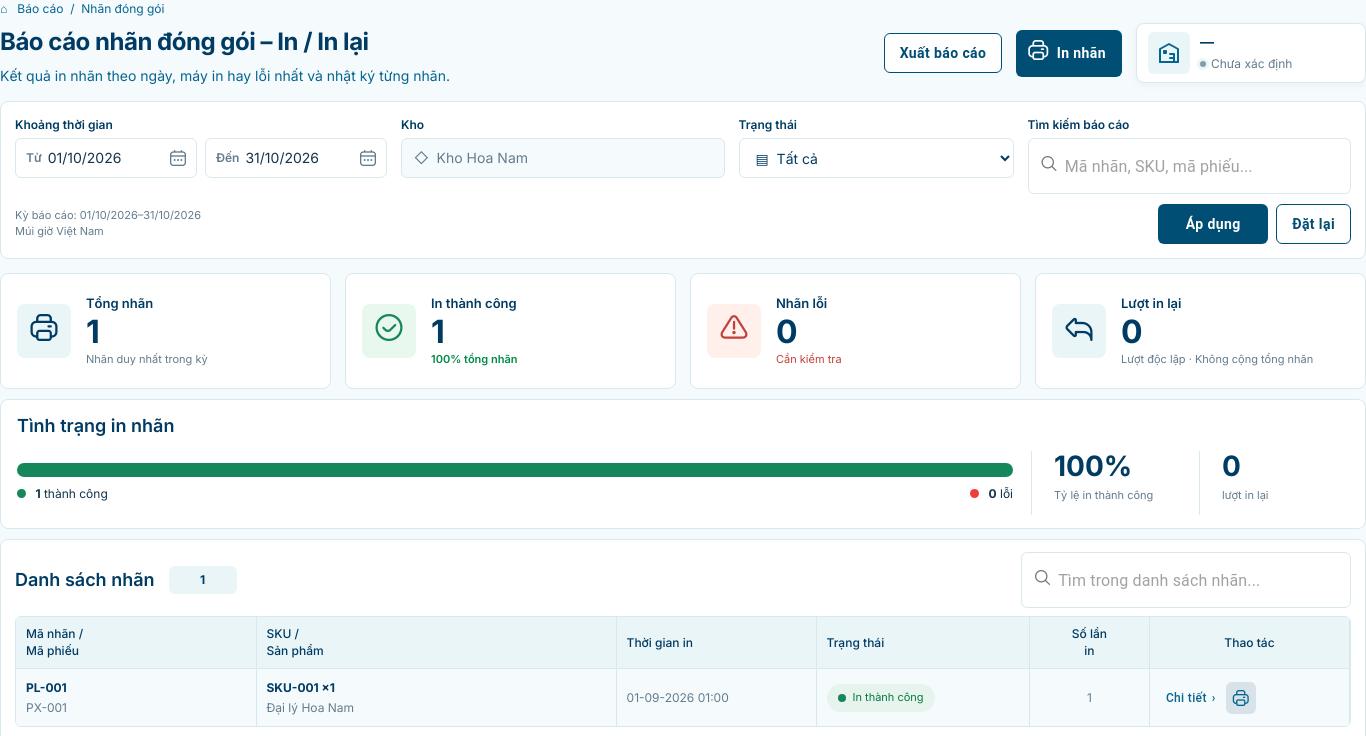
Test: packing-label reprint reason dialog › requires a reason and submits its trimmed value with the fresh snapshot version
Click the button named "In lại" at (1241, 698), box top-left (1226, 682), bottom-right (1256, 714)
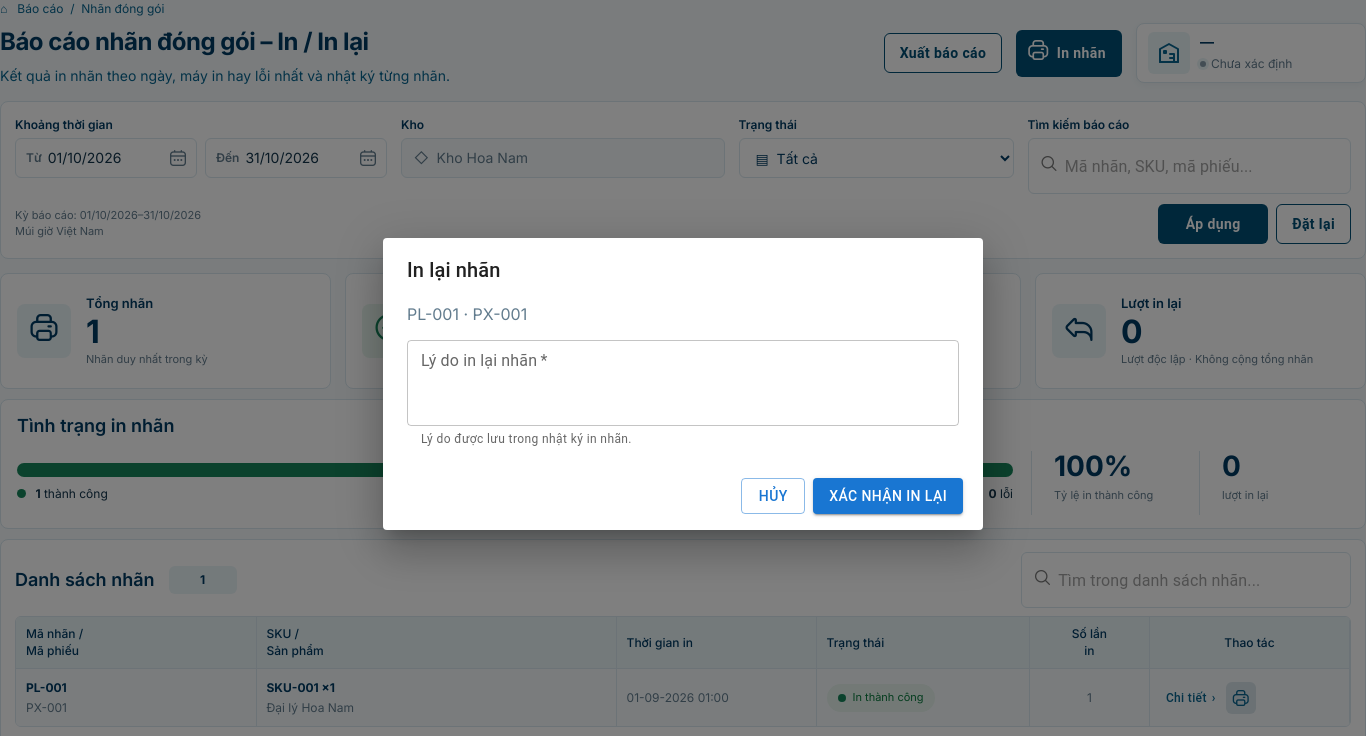
Click the button "Xác nhận in lại" at (888, 496), box top-left (813, 478), bottom-right (963, 514)
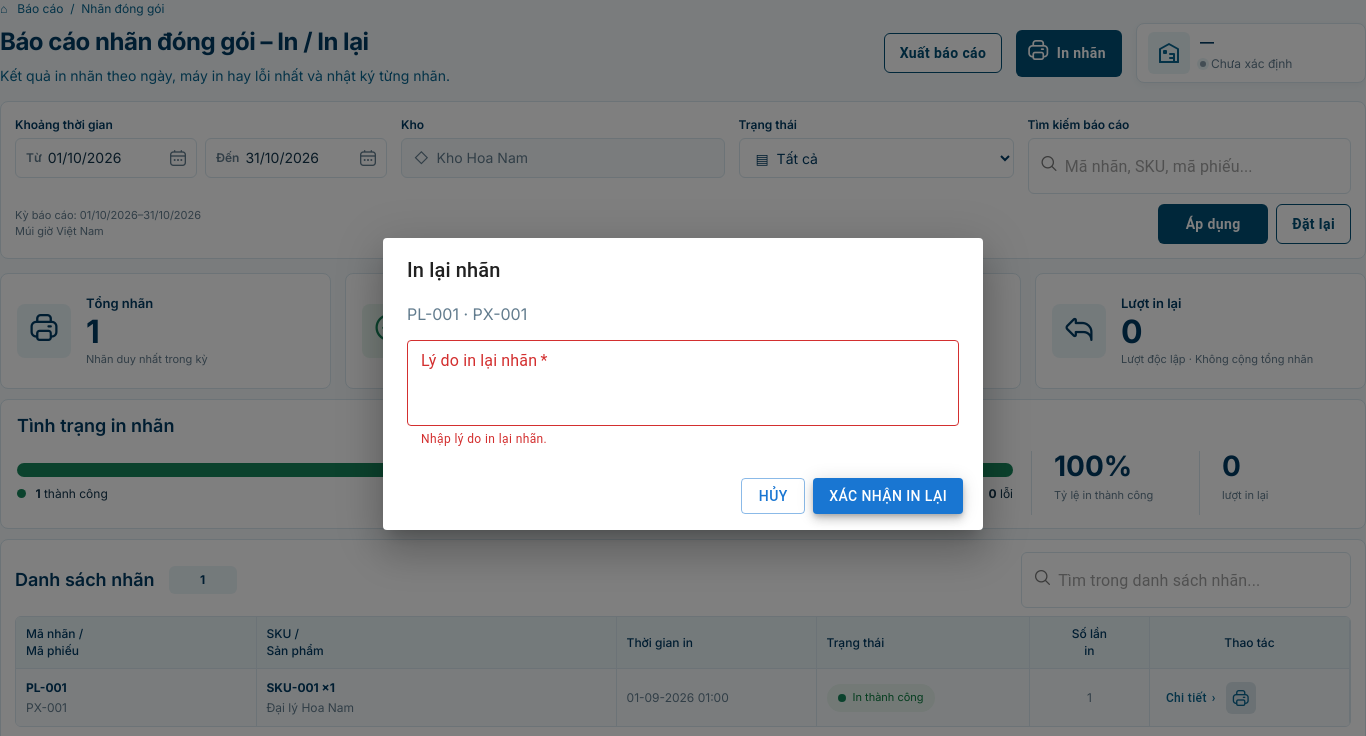
Check: the text "Nhập lý do in lại nhãn." is shown, box top-left (421, 432), bottom-right (547, 446)
Type "  Nhãn bị nhòe  " into the text box labelled "Lý do in lại nhãn *" at (683, 383), box top-left (421, 348), bottom-right (945, 417)
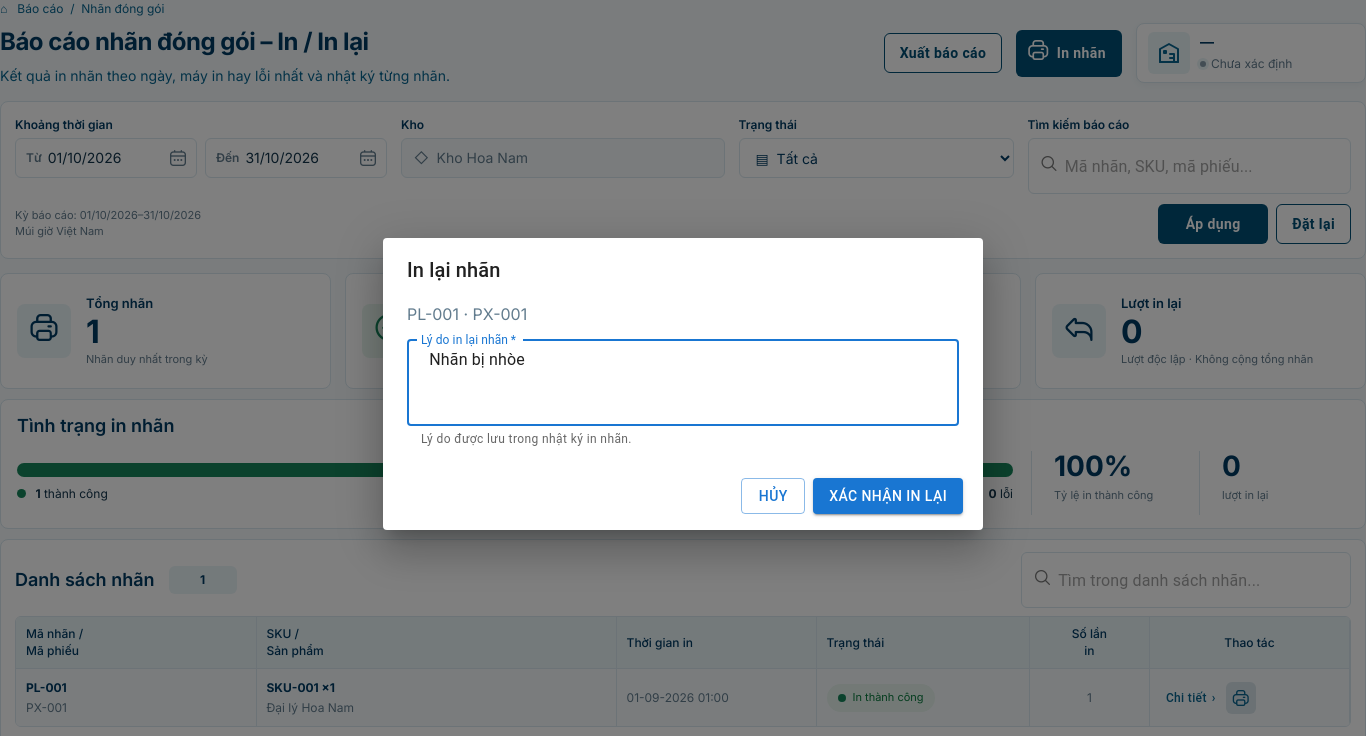
Click the button "Xác nhận in lại" at (888, 496), box top-left (813, 478), bottom-right (963, 514)
(page scrolled)
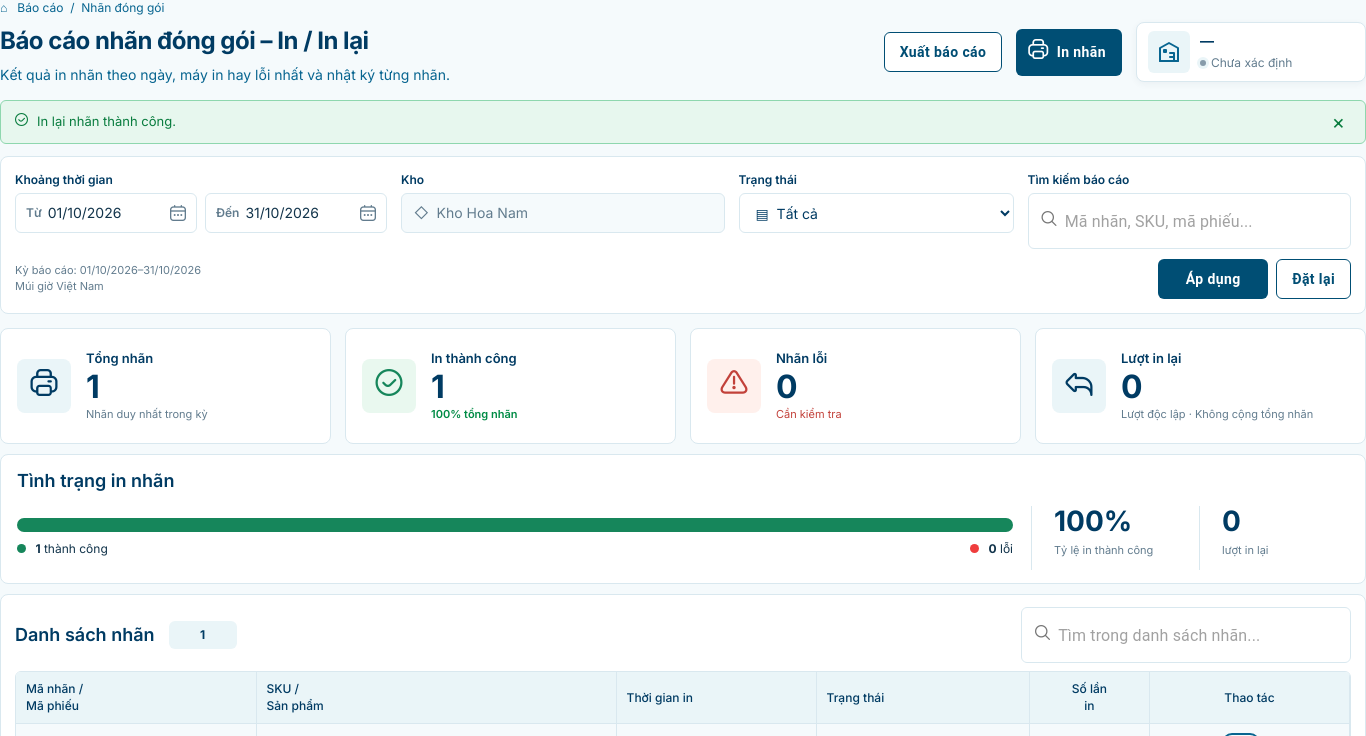
Check: the dialog is gone
